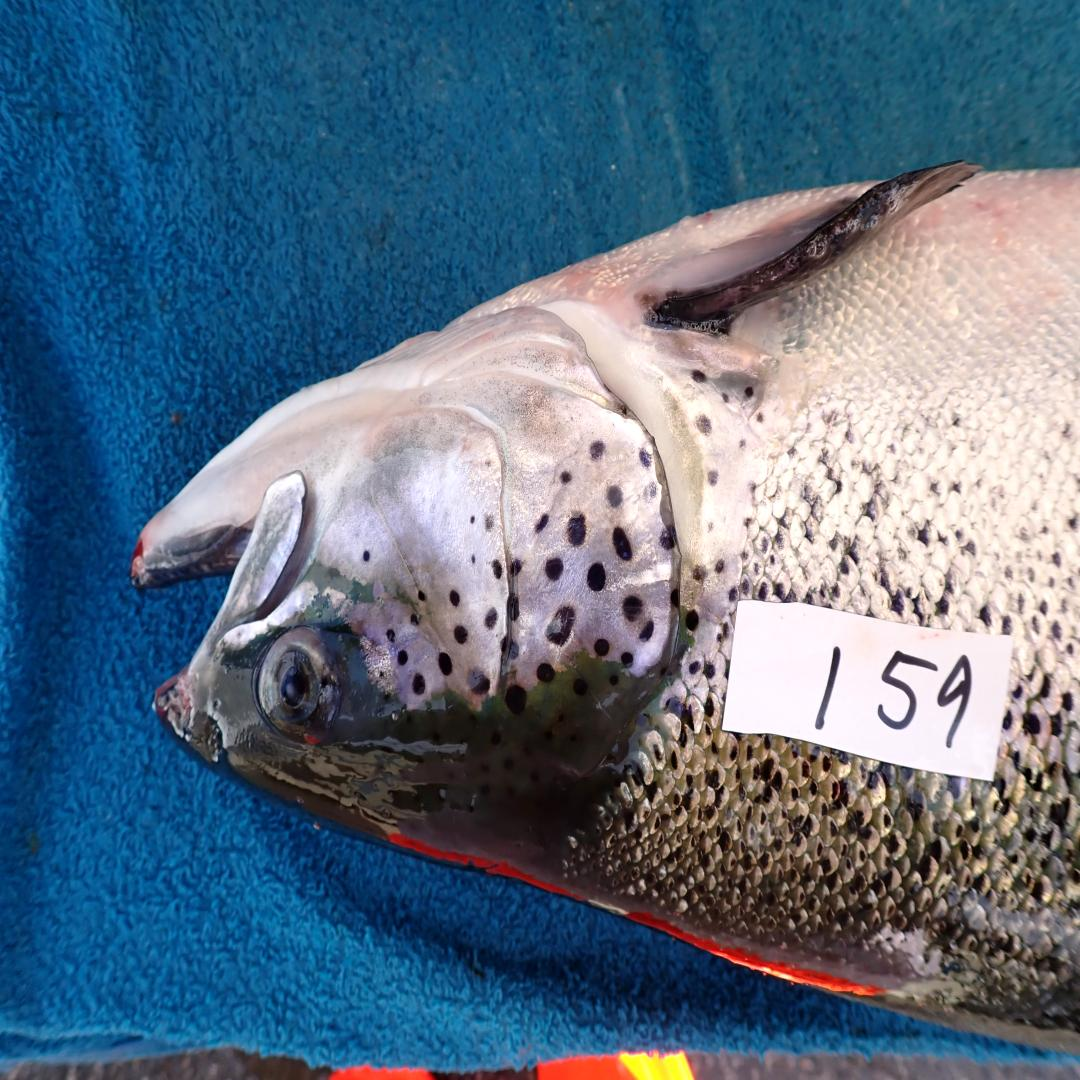roi: (304, 299, 678, 708)
